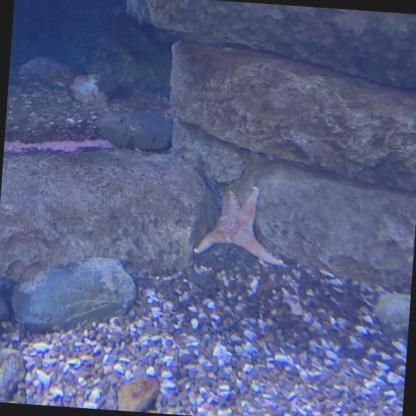starfish: (190, 184, 289, 262)
